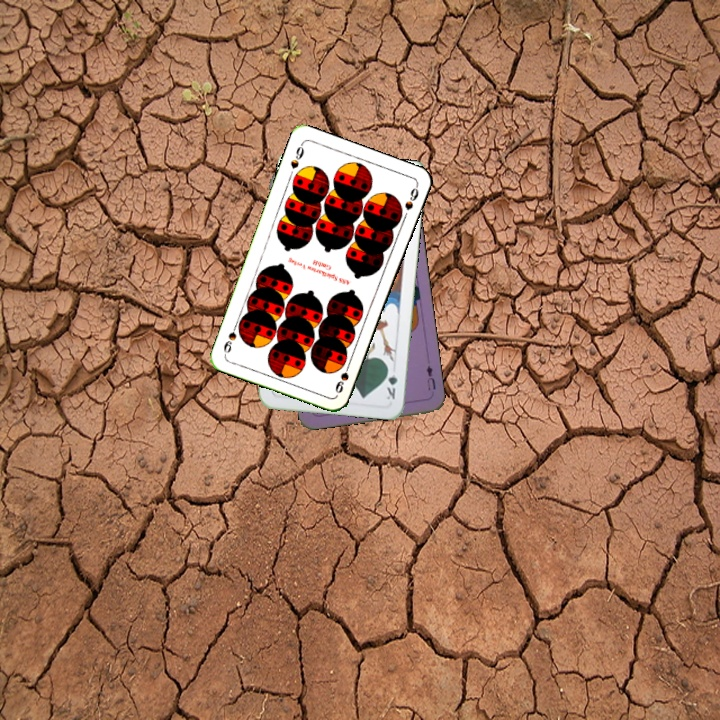EU: (422, 361, 438, 393)
GK: (383, 363, 400, 402)
S9: (331, 358, 353, 396), (286, 139, 307, 171)
